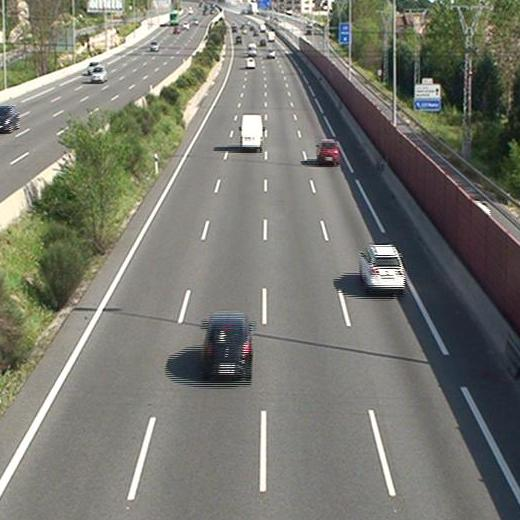car: (201, 315, 251, 380), (361, 246, 405, 290), (317, 139, 339, 163), (246, 56, 255, 68)
van: (240, 113, 262, 150)
